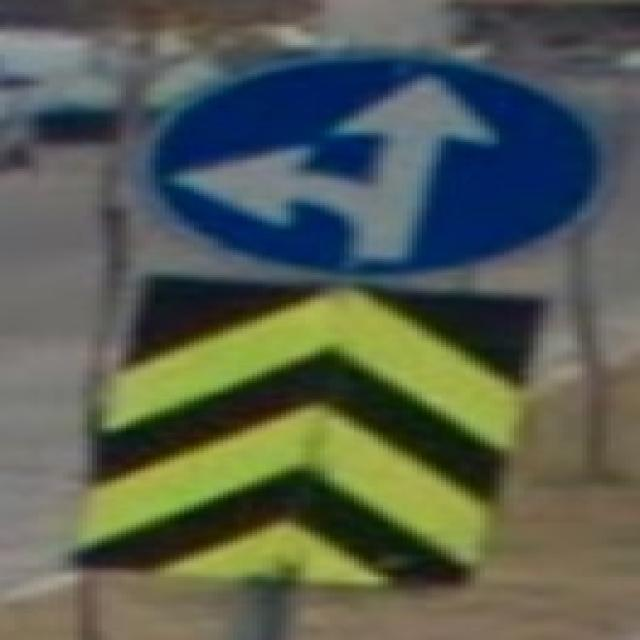Straight or Left: (137, 54, 607, 277)
